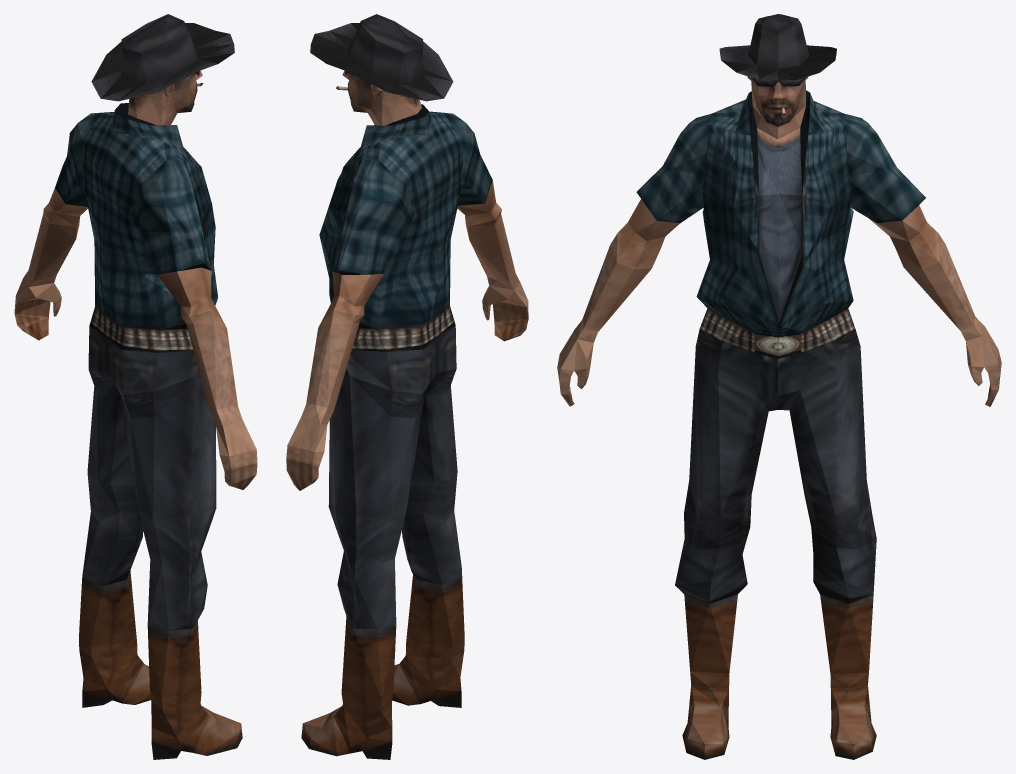
Rendered from dwmylc1.obj.
3 renders of one model, left to right at view 1: azimuth 30°, elevation 25°; view 2: azimuth 150°, elevation 25°; view 3: azimuth 270°, elevation 25°, orthographic. The views are drawn at different scales.
Visible parts, largest first — view 1: _Pelvis; view 2: _Pelvis; view 3: _Pelvis.
Part boxes in pixels (x1,y1,x2,y2): _Pelvis: [14, 14, 257, 759]; _Pelvis: [286, 14, 528, 759]; _Pelvis: [557, 14, 1001, 759].
Bounding box in the file's own units: 0.3517 × 1.81 × 1.01.
1 material, 1 textured.
